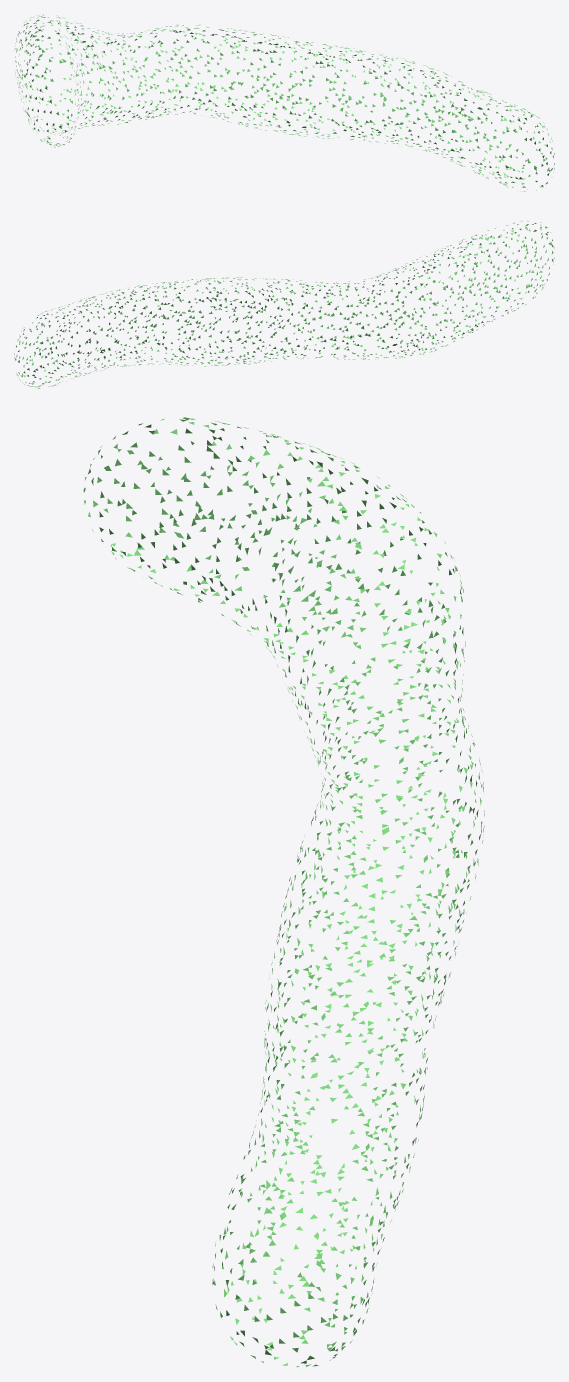
File: morph_017.glb
3 renders of one model, top to bottom at view 1: azimuth 30°, elevation 25°; view 2: azimuth 150°, elevation 25°; view 3: azimuth 270°, elevation 25°, orthographic. The views are drawn at different scales.
Bounding box in the file's own units: 115 × 57.53 × 41.31.
